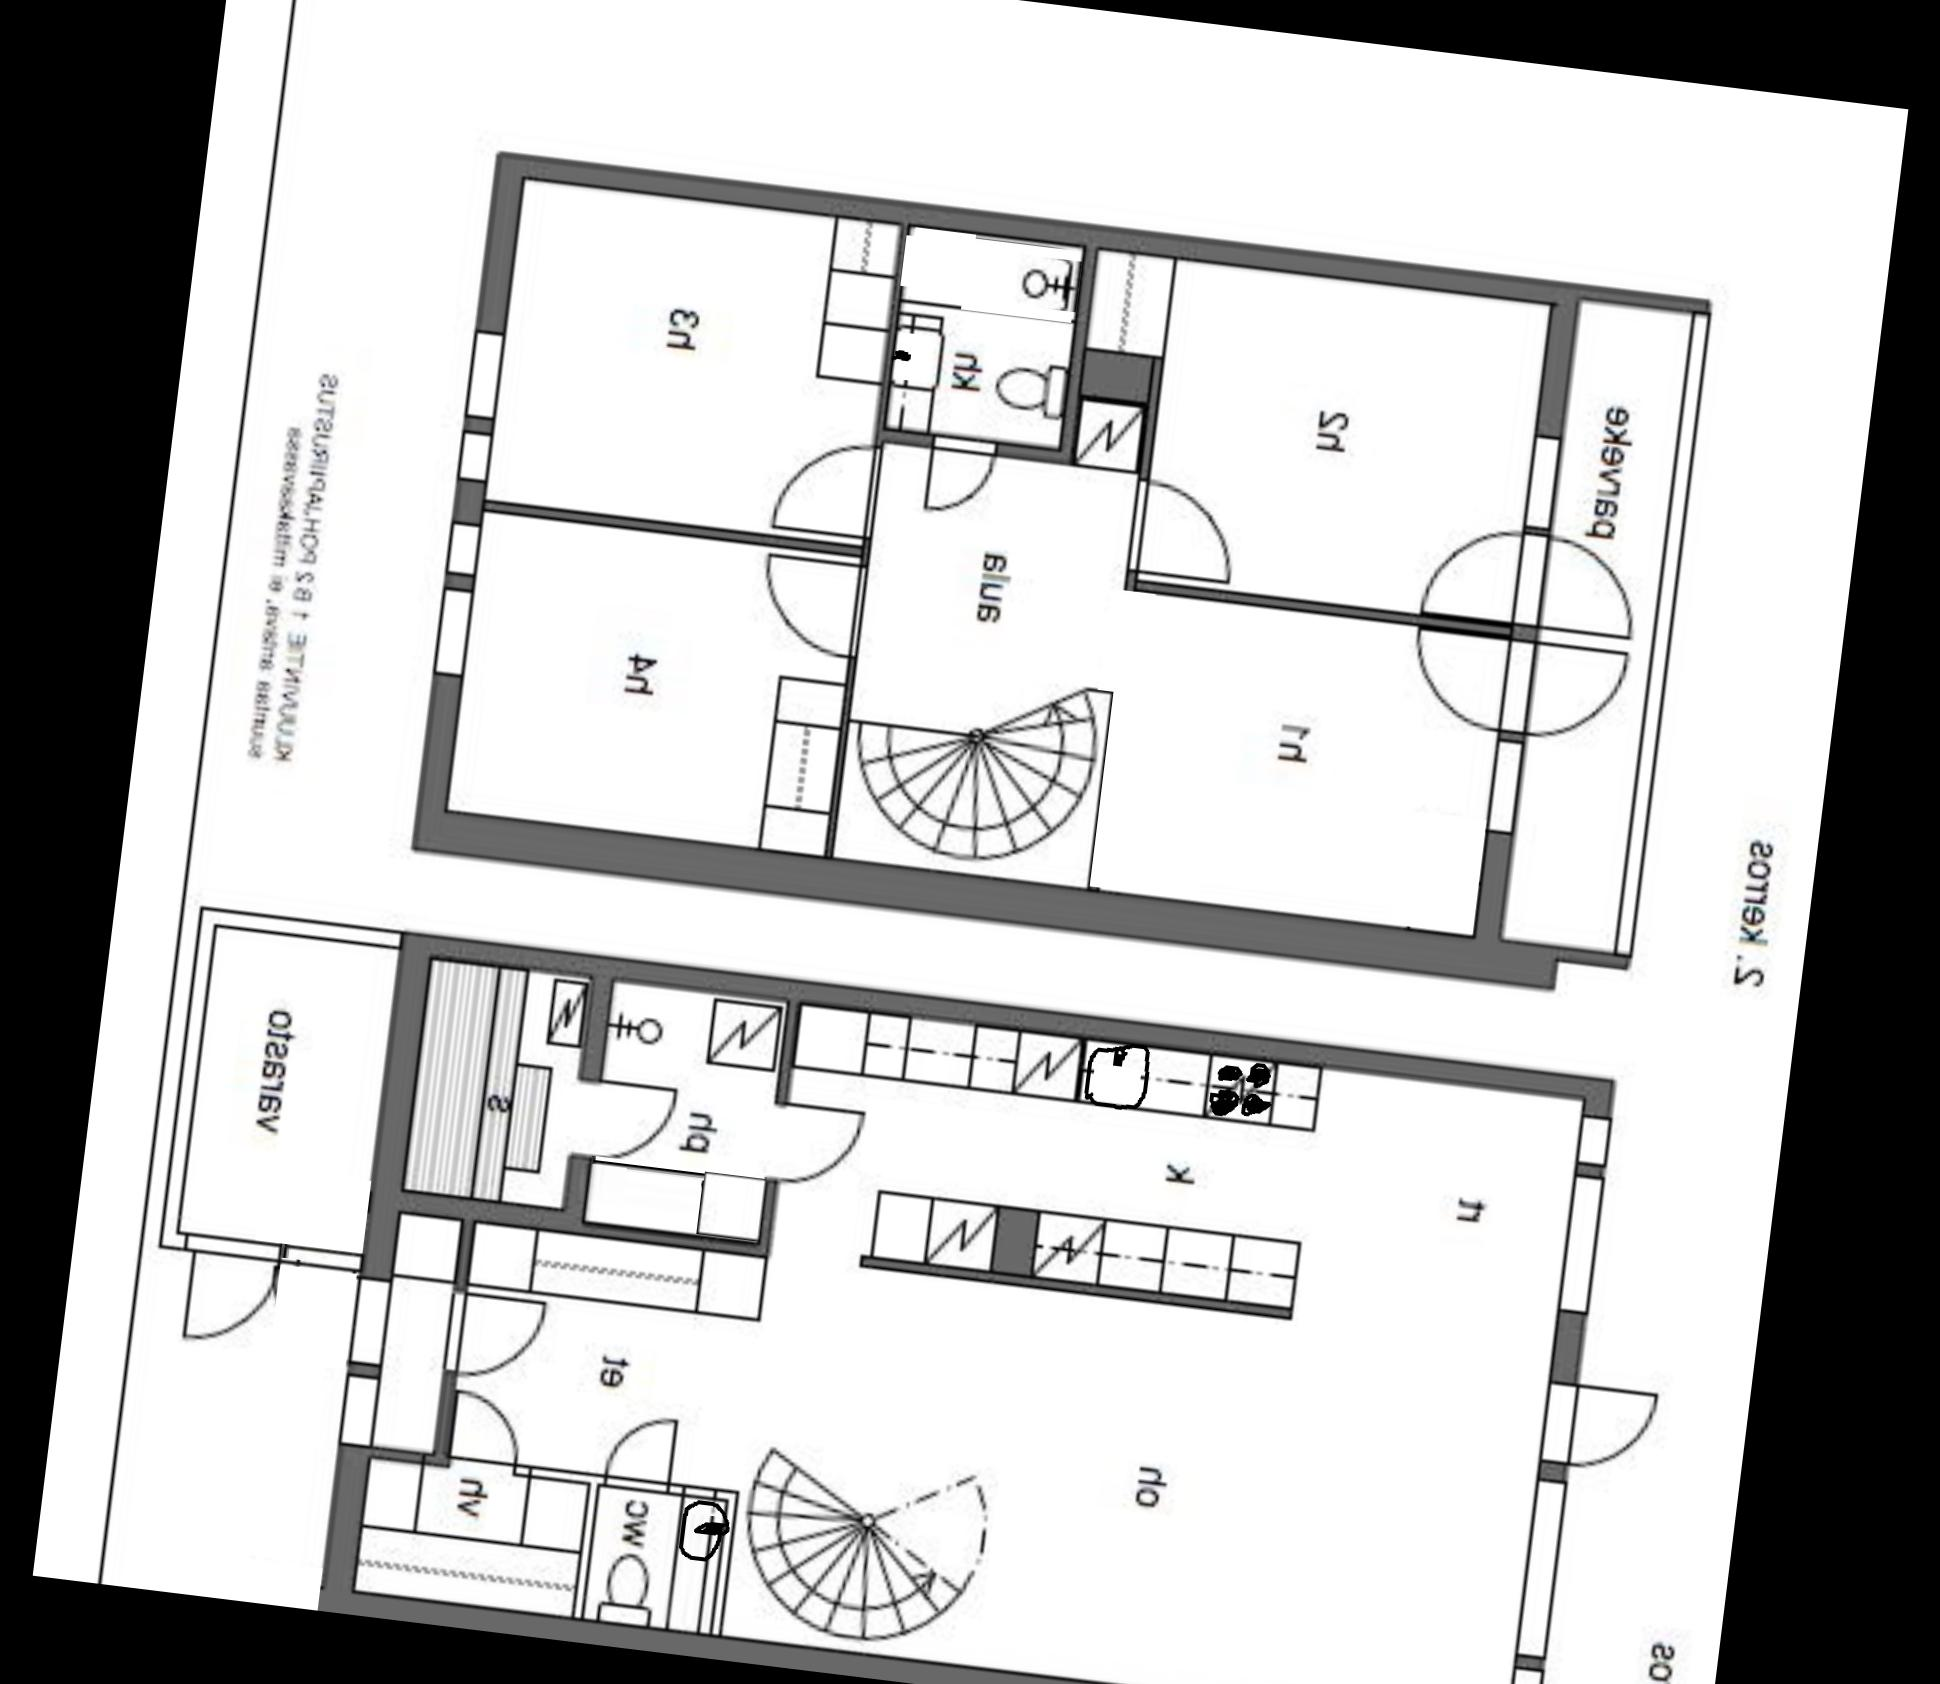door: (1501, 623, 1638, 752), (1501, 529, 1646, 647), (160, 1227, 292, 1356), (1115, 470, 1245, 592), (1394, 617, 1526, 737), (747, 548, 876, 668), (765, 429, 892, 548), (1537, 1372, 1665, 1488), (752, 1084, 871, 1204), (1417, 521, 1539, 635), (556, 1067, 680, 1178), (437, 1277, 551, 1390), (584, 1399, 691, 1508), (434, 1382, 539, 1479), (912, 427, 1006, 521)
window: (1498, 1466, 1577, 1666), (1539, 1164, 1612, 1324), (335, 1263, 404, 1377), (454, 313, 521, 429), (1504, 419, 1570, 533), (1473, 731, 1536, 841), (422, 576, 483, 686), (328, 1359, 388, 1455), (432, 511, 492, 587), (444, 421, 505, 488), (1564, 1107, 1620, 1176), (1490, 1658, 1554, 1684)
